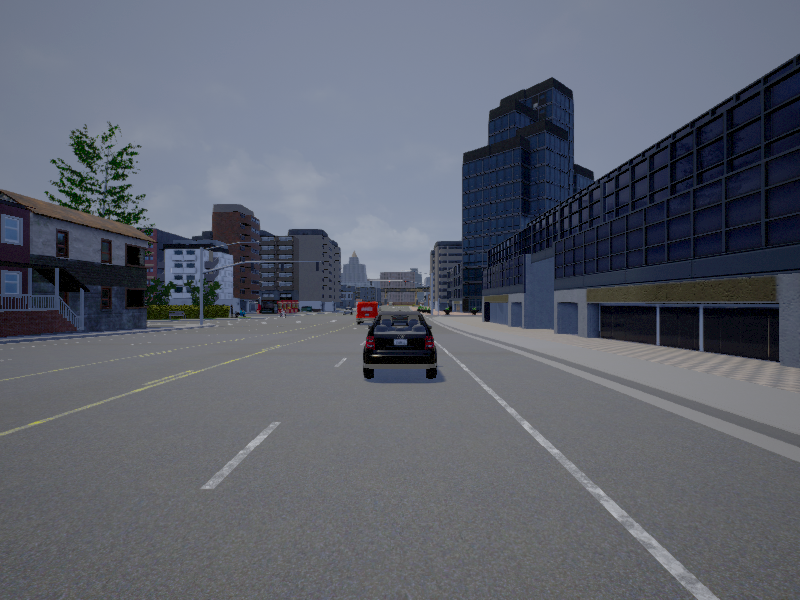Benign: (364, 310, 436, 382), (357, 303, 379, 325)
